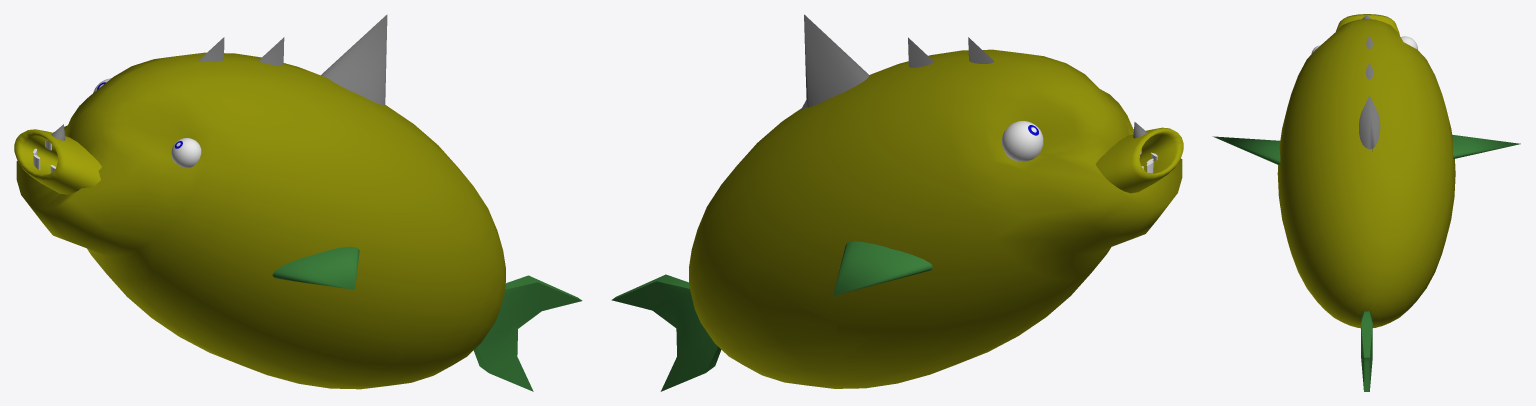
Rendered from Fish Model (Travis).fbx.
3 views of the same model, side by side, from view 1: azimuth 30°, elevation 25°; view 2: azimuth 150°, elevation 25°; view 3: azimuth 270°, elevation 25° (orthographic). The views are drawn at different scales.
Visible parts, largest first — view 1: Le_Fishe, Tail_Fin, Mouth, Dorsal_Fin, Fin, Eyeball1; view 2: Le_Fishe, Tail_Fin, Mouth, Dorsal_Fin, Fin1, Eyeball; view 3: Le_Fishe, Fin, Fin1, Tail_Fin, Dorsal_Fin, Mouth.
Boxes of the visible parts, x1,y1,x2,y2 form: Le_Fishe: [16, 52, 505, 389]; Tail_Fin: [473, 275, 582, 391]; Mouth: [14, 129, 101, 194]; Dorsal_Fin: [321, 14, 387, 105]; Fin: [272, 246, 359, 289]; Eyeball1: [171, 138, 201, 168]; Le_Fishe: [689, 49, 1182, 388]; Tail_Fin: [611, 274, 721, 391]; Mouth: [1095, 127, 1183, 193]; Dorsal_Fin: [800, 14, 869, 110]; Fin1: [833, 241, 933, 295]; Eyeball: [1001, 121, 1043, 161]; Le_Fishe: [1277, 19, 1455, 328]; Fin: [1212, 136, 1280, 165]; Fin1: [1452, 134, 1520, 158]; Tail_Fin: [1361, 311, 1372, 391]; Dorsal_Fin: [1359, 95, 1380, 151]; Mouth: [1336, 14, 1399, 35].
Size of the model in its own units: 3.85 by 2.83 by 3.
